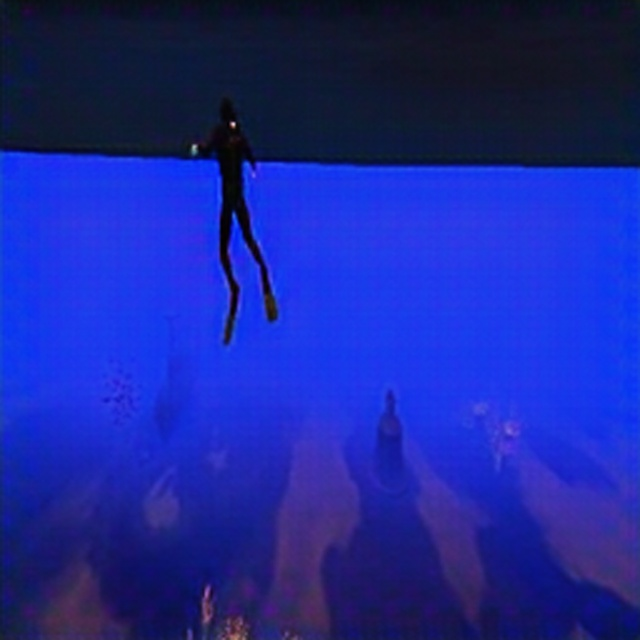diver: (189, 95, 278, 344)
